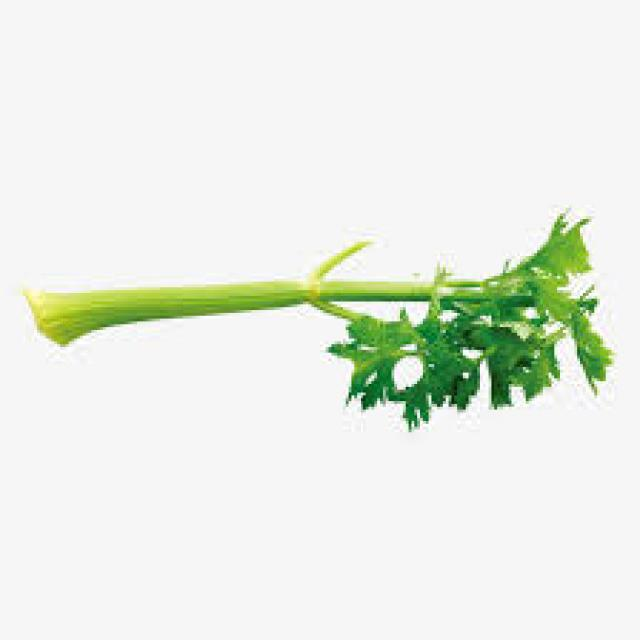organic waste: (20, 202, 609, 429), (323, 316, 411, 410), (486, 210, 588, 284), (566, 307, 608, 398)
